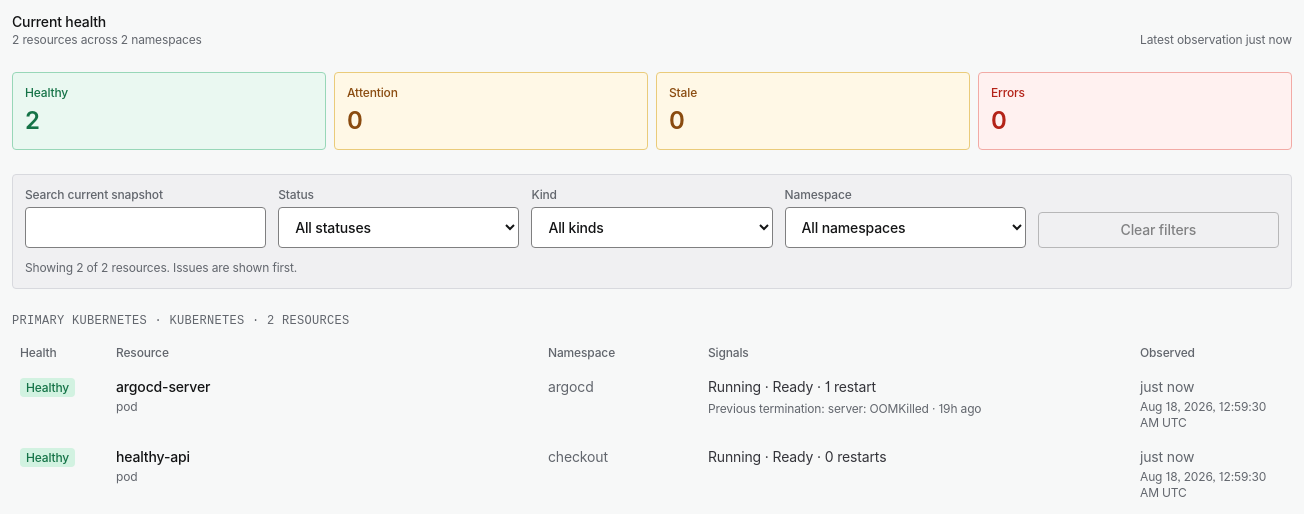
it: InfrastructureList › shows a prior OOM termination as history without marking a recovered pod unhealthy
expect the element named "Infrastructure overview" reads "Healthy 2 Attention 0 Stale 0 Errors 0": met, box 12,72 -> 1292,150
expect the text "argocd-server" shows "Previous termination": met, box 708,401 -> 828,416
Step 1. Type "OOMKilled" into the search field labelled "Search current snapshot" → coordinates (146, 228), box 25,207 -> 266,248
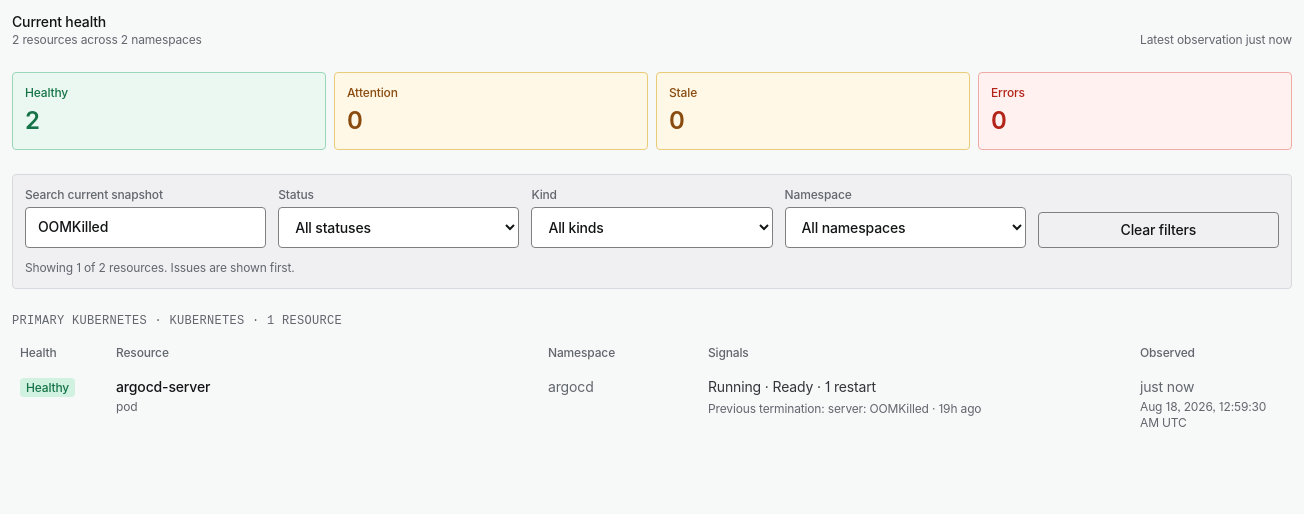
expect the text "argocd-server" is shown: met, box 116,378 -> 210,395
expect the text "healthy-api" is gone: met
